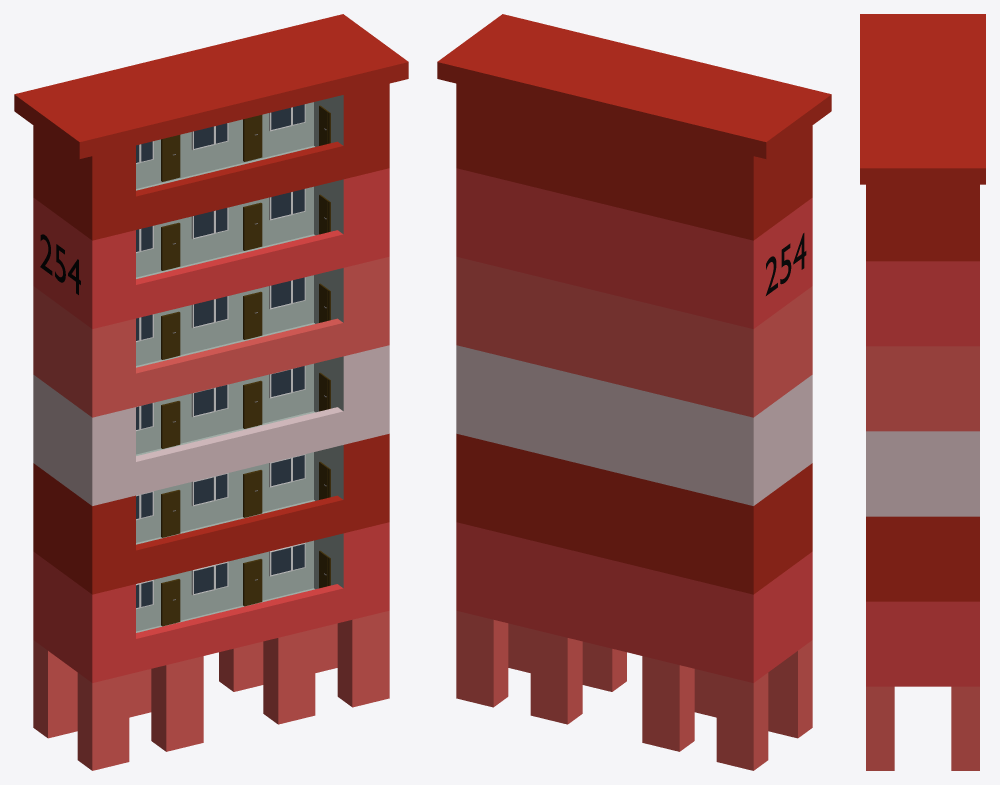
The model's file is HDB_Red.fbx.
3 views of the same model, side by side, from view 1: azimuth 30°, elevation 25°; view 2: azimuth 150°, elevation 25°; view 3: azimuth 270°, elevation 25° (orthographic). The views are drawn at different scales.
Visible parts, largest first — view 1: Buidling.003, Window.071, Window.068, Window.072, Window.065, Window.069, Window.062, Window.066, Window.056, Window.063, Door.080, Door.081 (+13 smaller); view 2: Buidling.003; view 3: Buidling.003.
Part boxes in pixels (x1,y1,x2,y2): Buidling.003: (14, 14, 408, 770); Window.071: (191, 561, 228, 595); Window.068: (191, 473, 228, 506); Window.072: (269, 542, 305, 576); Window.065: (191, 384, 228, 417); Window.069: (269, 454, 305, 487); Window.062: (191, 296, 228, 328); Window.066: (269, 365, 305, 398); Window.056: (191, 207, 228, 239); Window.063: (269, 277, 305, 309); Door.080: (243, 380, 262, 428); Door.081: (161, 401, 180, 448); Buidling.003: (437, 14, 831, 770); Buidling.003: (860, 14, 985, 770).
Bounding box in the file's own units: 6422 × 11838 × 2214.
